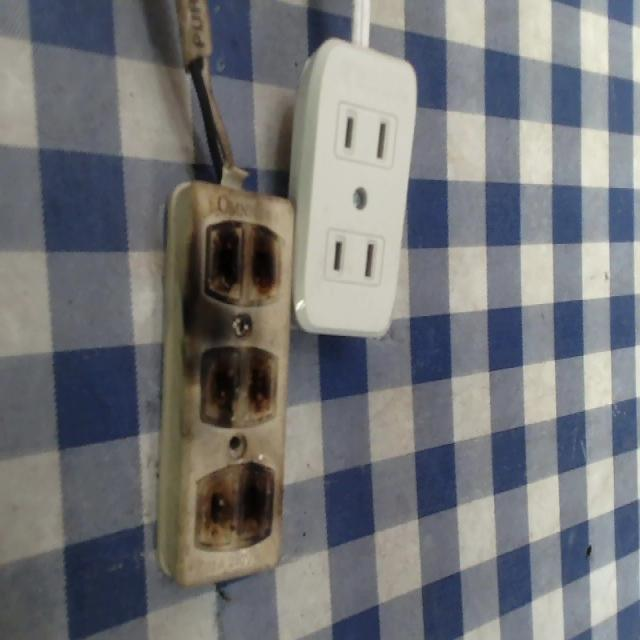-: (201, 216, 283, 309), (192, 459, 276, 549), (195, 341, 276, 427)
